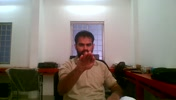hand: (17, 8, 99, 90)
